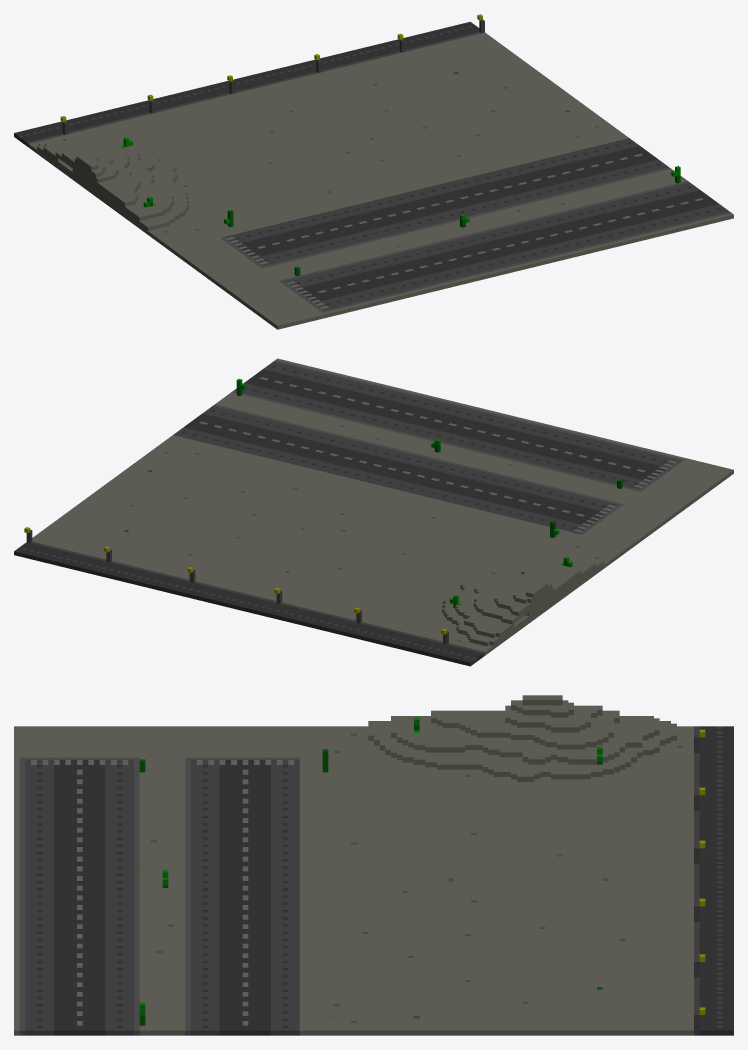
File: terrain_left.obj
The picture shows the model from 3 angles, top to bottom: view 1: azimuth 30°, elevation 25°; view 2: azimuth 150°, elevation 25°; view 3: azimuth 270°, elevation 25°; orthographic projection. The views are drawn at different scales.
Bounding box in the file's own units: 126 × 7 × 126.
Materials: 1 (1 with a texture image).
